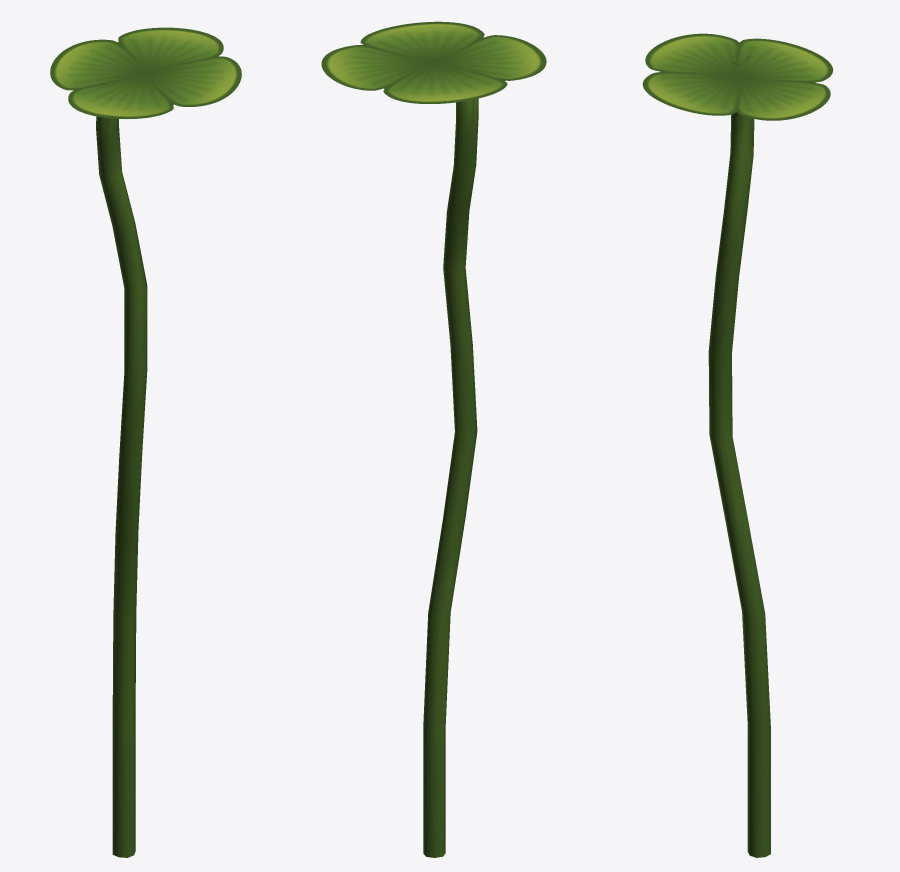
File: LillypadBob.fbx
3 renders of one model, left to right at view 1: azimuth 30°, elevation 25°; view 2: azimuth 150°, elevation 25°; view 3: azimuth 270°, elevation 25°, orthographic.
Parts seen in each view (by area): view 1: LillypadBase, RoofTile; view 2: LillypadBase, RoofTile; view 3: LillypadBase, RoofTile.
Part boxes in pixels (x1,y1,x2,y2): LillypadBase: (96,76,147,857); RoofTile: (50,27,241,118); LillypadBase: (423,67,478,857); RoofTile: (321,21,546,103); LillypadBase: (708,55,770,857); RoofTile: (642,33,833,120).
Bounding box in the file's own units: 0.7741 × 2.23 × 0.7644.
